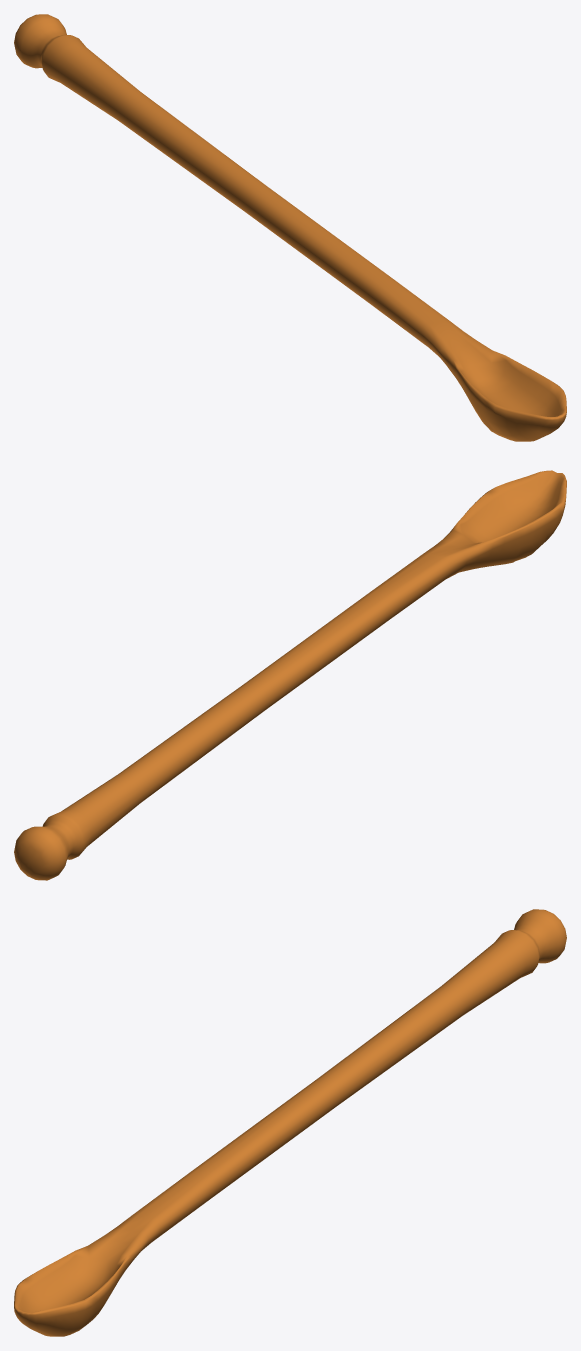
Rendered from lozhka.fbx.
The picture shows the model from 3 angles, top to bottom: view 1: azimuth 30°, elevation 25°; view 2: azimuth 150°, elevation 25°; view 3: azimuth 330°, elevation 25°; orthographic projection.
Parts seen in each view (by area): view 1: Cylinder; view 2: Cylinder; view 3: Cylinder.
Boxes of the visible parts, box(x1,y1,x2,y2) form: Cylinder: box(14, 14, 566, 441); Cylinder: box(14, 470, 566, 880); Cylinder: box(14, 909, 566, 1336).
Size of the model in its own units: 0.1771 by 0.1777 by 2.28.
